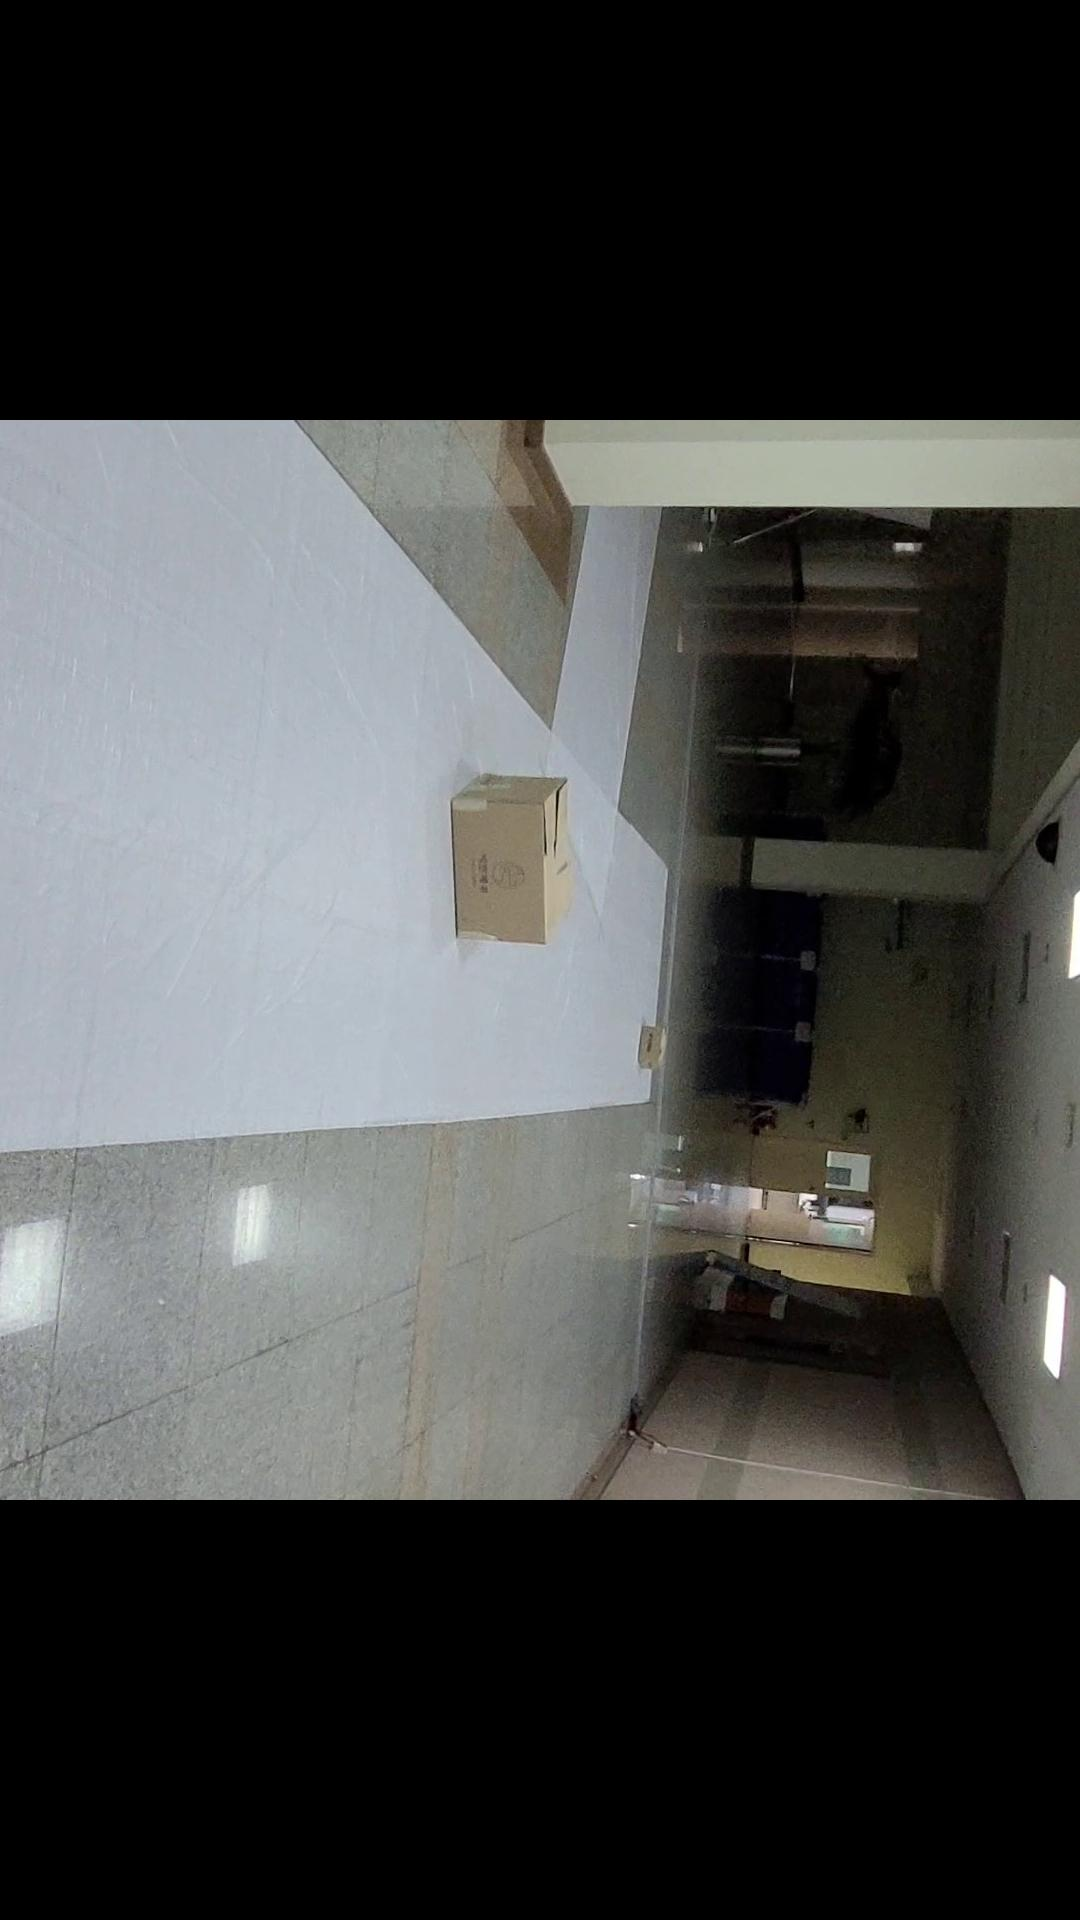Box: (419, 752, 597, 980), (608, 1011, 695, 1080)
